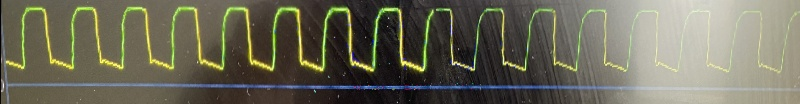normal_pressure: (0, 0, 785, 79)
